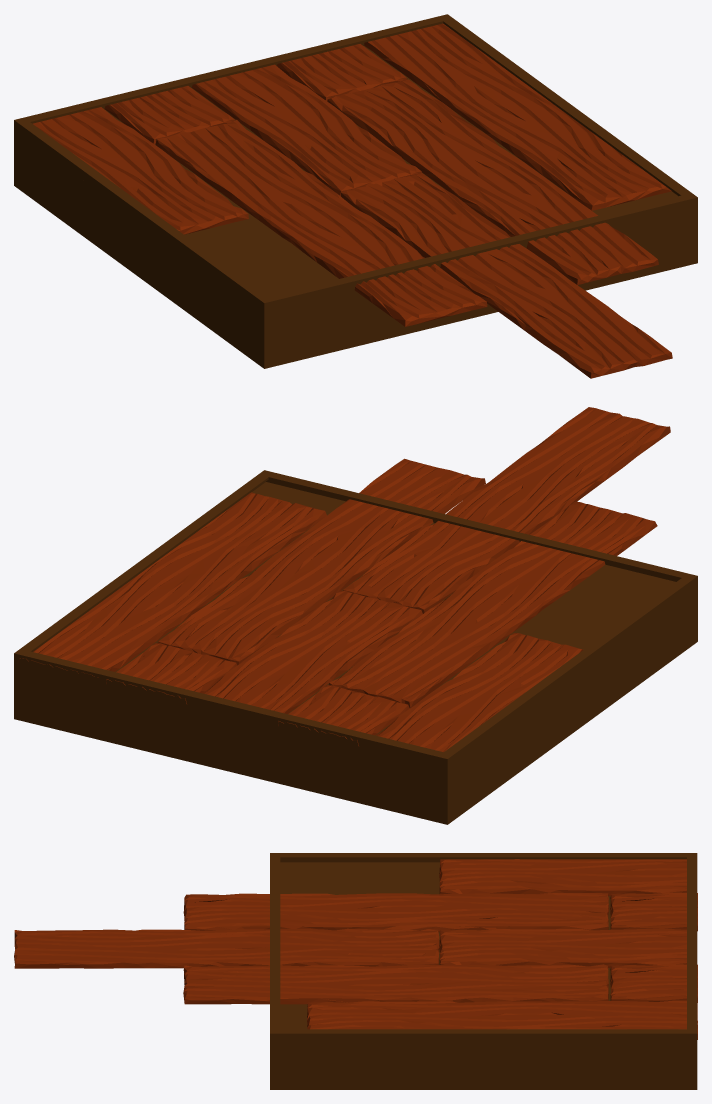
Rendered from FloorEndR.glb.
3 renders of one model, top to bottom at view 1: azimuth 30°, elevation 25°; view 2: azimuth 150°, elevation 25°; view 3: azimuth 270°, elevation 25°, orthographic. The views are drawn at different scales.
Visible parts, largest first — view 1: Cube.001, Plane.004, Plane.003, Plane.009, Plane.002, Plane.005, Plane.001, Plane.007, Plane.006; view 2: Cube.001, Plane.004, Plane.003, Plane.009, Plane.002, Plane.005, Plane.001, Plane.007, Plane.006; view 3: Cube.001, Plane.009, Plane.003, Plane.004, Plane.002, Plane.005, Plane.001, Plane.006, Plane.007.
Part boxes in pixels (x1,y1,x2,y2): Cube.001: [14, 14, 697, 368]; Plane.004: [155, 120, 487, 326]; Plane.003: [327, 79, 658, 285]; Plane.009: [341, 173, 672, 378]; Plane.002: [364, 23, 671, 210]; Plane.005: [192, 64, 421, 196]; Plane.001: [33, 107, 248, 234]; Plane.007: [104, 86, 234, 144]; Plane.006: [277, 44, 406, 100]; Cube.001: [14, 470, 697, 824]; Plane.004: [329, 501, 657, 708]; Plane.003: [157, 458, 485, 665]; Plane.009: [343, 407, 670, 613]; Plane.002: [18, 492, 326, 677]; Plane.005: [202, 590, 422, 713]; Plane.001: [376, 633, 583, 752]; Plane.007: [278, 685, 409, 745]; Plane.006: [106, 643, 237, 703]; Cube.001: [270, 853, 697, 1089]; Plane.009: [14, 928, 439, 968]; Plane.003: [183, 964, 608, 1004]; Plane.004: [183, 893, 609, 932]; Plane.002: [307, 1000, 697, 1039]; Plane.005: [439, 929, 686, 967]; Plane.001: [439, 859, 686, 895]; Plane.006: [610, 964, 697, 1002]; Plane.007: [610, 892, 697, 931].
Size of the model in its own units: 2 by 0.2899 by 3.2.
